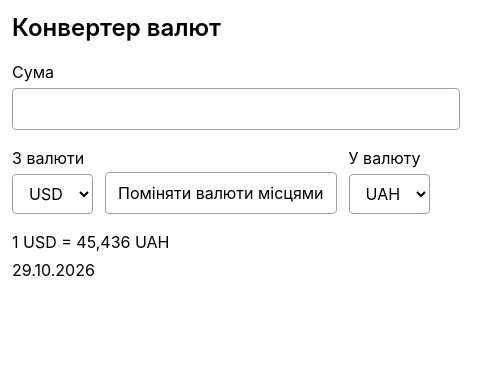
Test: Converter result › shows a small result as below the minimum
Expected: the text "1 USD = 45,436 UAH" is shown, x1=12 y1=232 x2=170 y2=252
Click the button "Поміняти валюти місцями": (221, 193) x1=105 y1=172 x2=336 y2=214
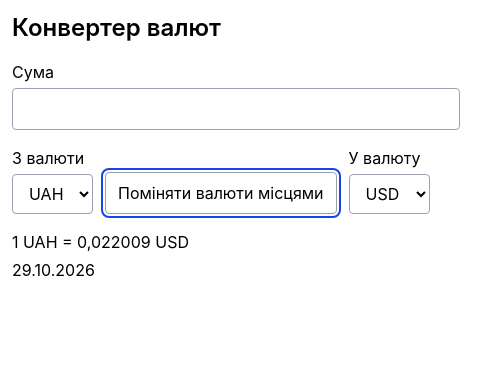
Expected: the text "1 UAH = 0,022009 USD" is shown, x1=12 y1=232 x2=189 y2=252
In the field labelled "Сума": (236, 109) x1=12 y1=88 x2=460 y2=130, type "0,10"
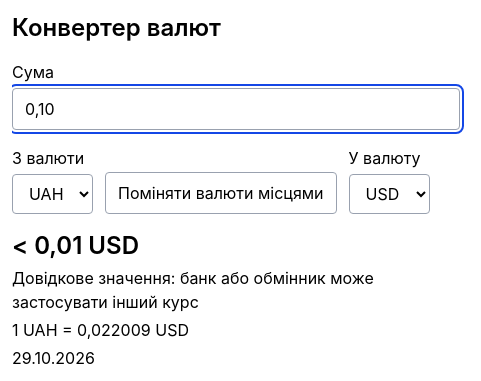
Expected: the text "< 0,01 USD" is shown, x1=12 y1=231 x2=139 y2=260
